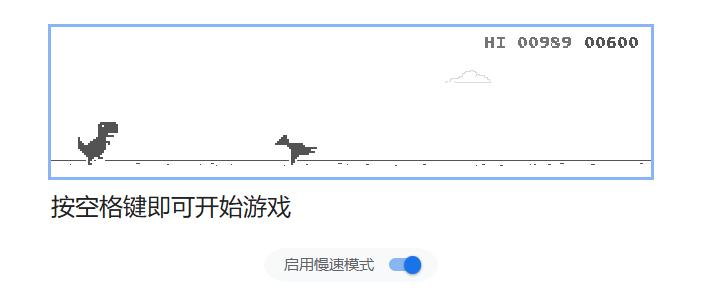bird: (273, 132, 318, 166)
dino: (78, 120, 120, 164)
